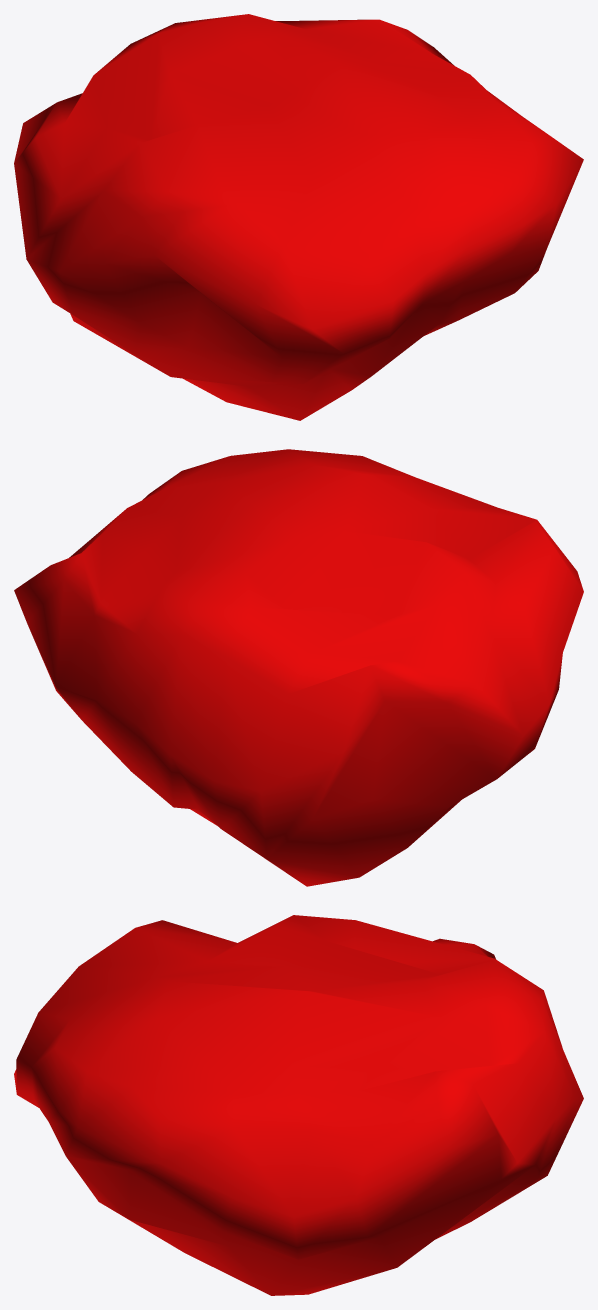
Rendered from FloatyWallAttachment01_mesh.fbx.
3 renders of one model, top to bottom at view 1: azimuth 30°, elevation 25°; view 2: azimuth 150°, elevation 25°; view 3: azimuth 270°, elevation 25°, orthographic.
Parts seen in each view (by area): view 1: Floaty_wallattachment01_model; view 2: Floaty_wallattachment01_model; view 3: Floaty_wallattachment01_model.
Boxes of the visible parts, bbox=[...] form: Floaty_wallattachment01_model: bbox=[14, 14, 583, 420]; Floaty_wallattachment01_model: bbox=[14, 449, 583, 886]; Floaty_wallattachment01_model: bbox=[14, 915, 583, 1295].
Size of the model in its own units: 25.1 by 14.7 by 25.05.
